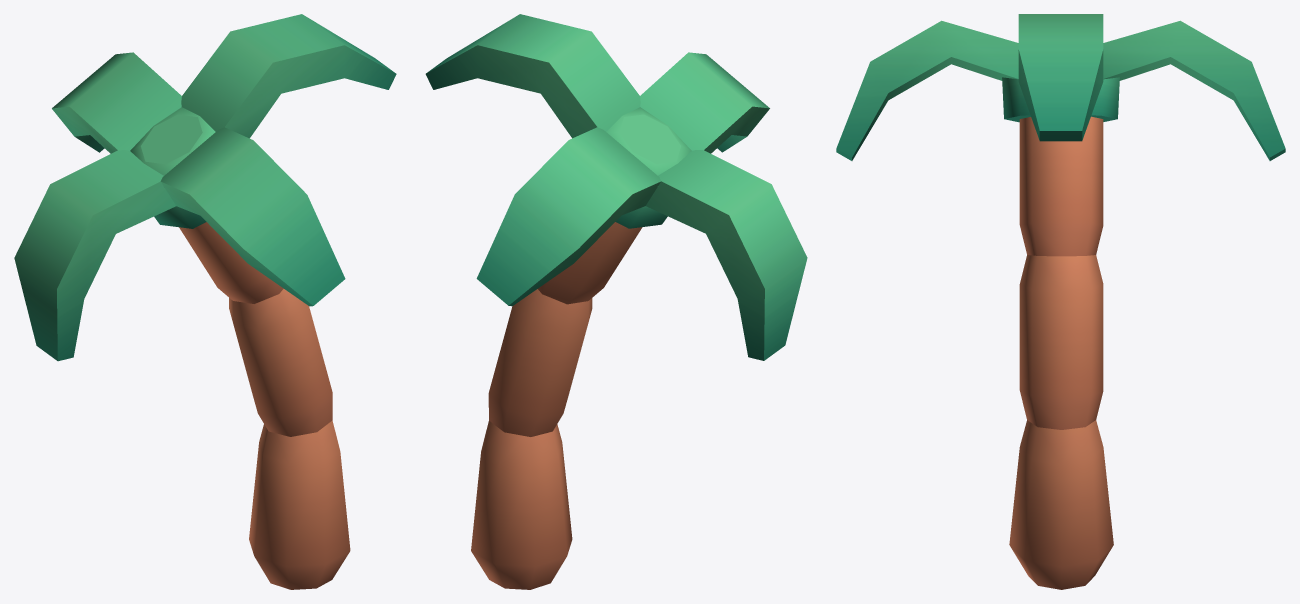
Rendered from mar.glb.
The picture shows the model from 3 angles, left to right: view 1: azimuth 30°, elevation 25°; view 2: azimuth 150°, elevation 25°; view 3: azimuth 270°, elevation 25°; orthographic projection.
Visible parts, largest first — view 1: palm-bend; view 2: palm-bend; view 3: palm-bend.
Boxes of the visible parts, box(x1,y1,x2,y2) form: palm-bend: box(14, 14, 396, 589); palm-bend: box(425, 14, 807, 589); palm-bend: box(836, 14, 1285, 589).
Bounding box in the file's own units: 2.88 × 4.25 × 3.22.
Materials: 1 (1 with a texture image).
